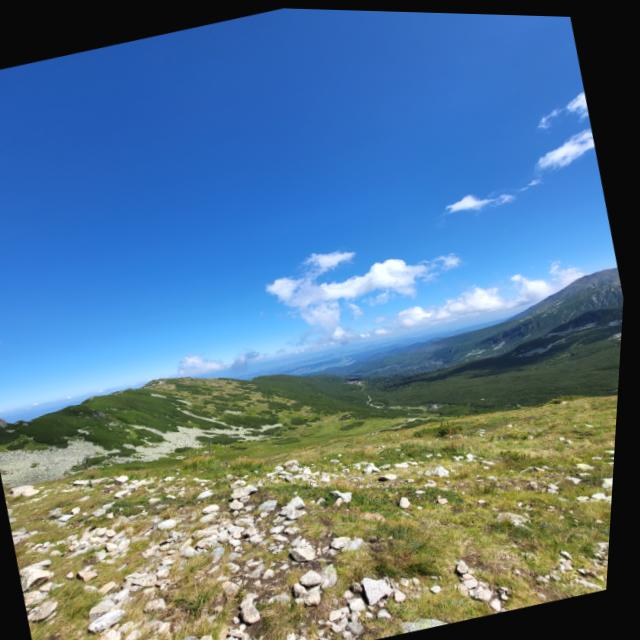Uhrocie Kasprowe: (12, 275, 316, 482)
